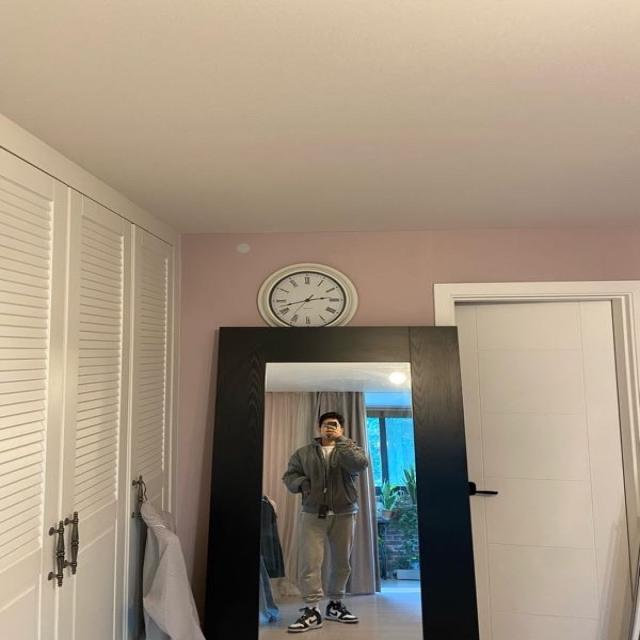cottonpants: (301, 509, 358, 602)
jacket: (281, 433, 365, 512)
